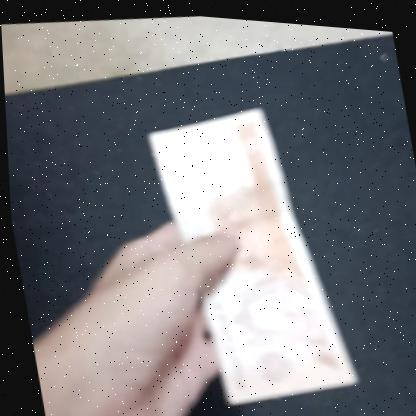twenty-back-vef: (141, 89, 358, 416)
